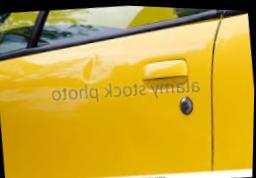Door: (64, 41, 120, 86)
